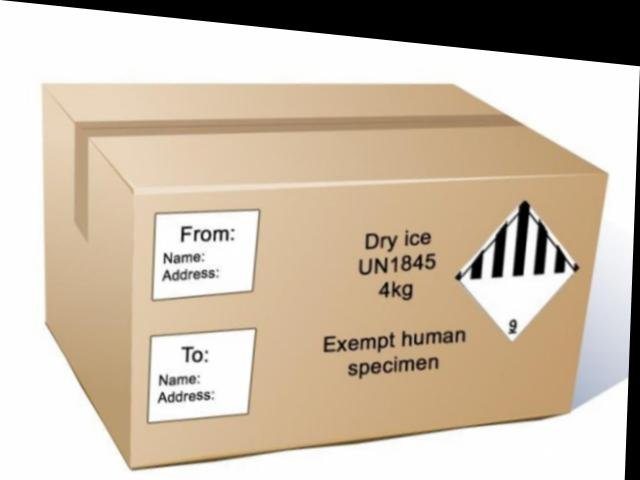package: (36, 69, 616, 478)
